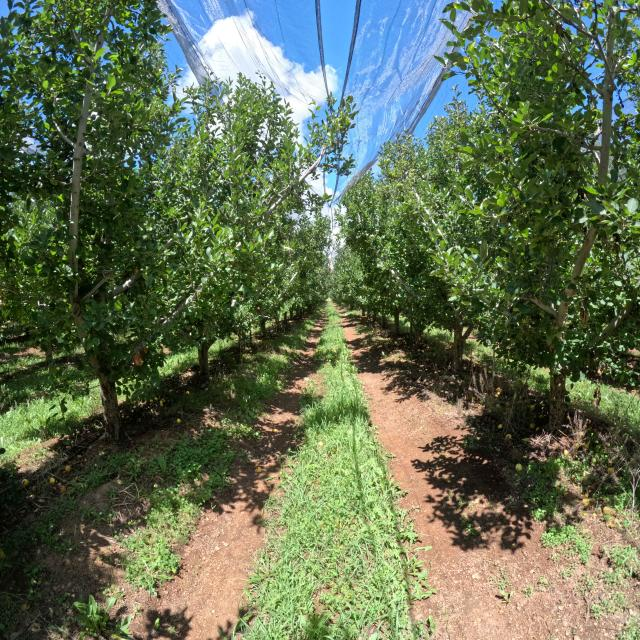-FireBlight-: (133, 354, 144, 366), (143, 347, 148, 353)
